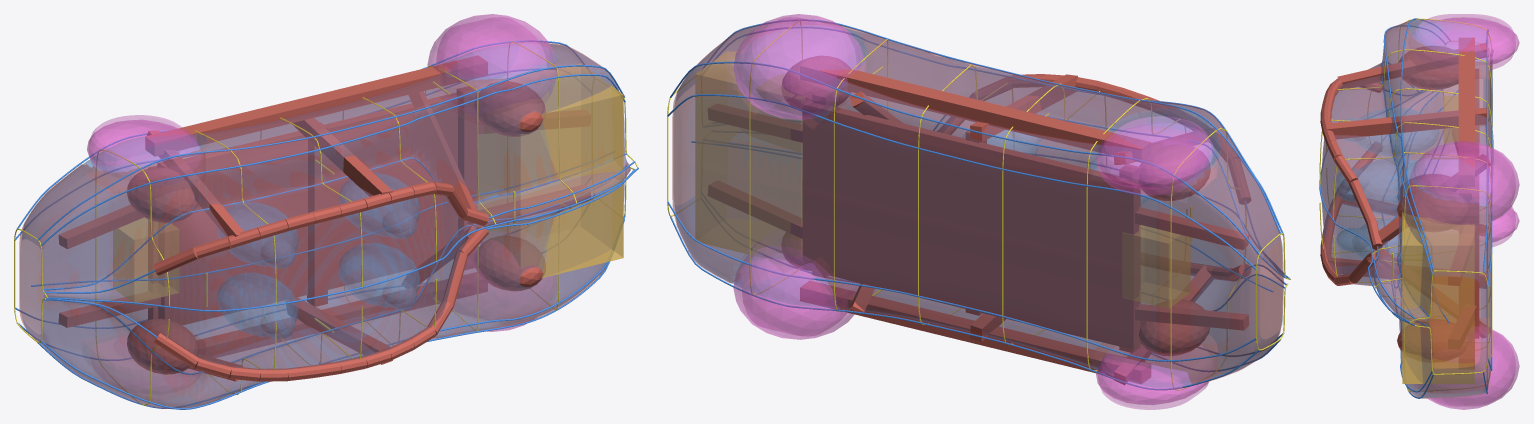
The model's file is modern_car_v2_aero_engineering.glb.
3 renders of one model, left to right at view 1: azimuth 30°, elevation 25°; view 2: azimuth 150°, elevation 25°; view 3: azimuth 270°, elevation 25°, orthographic. The views are drawn at different scales.
Parts seen in each view (by area): view 1: semantic_surface, body_reference, floor_pan, engine_envelope, rocker_right, wheel_envelope_front_right, roof_rail_left, rocker_left, actual_tyre_sweep_front_right, roof_rail_right, rear_differential_envelope, actual_tyre_sweep_rear_right (+41 smaller); view 2: semantic_surface, body_reference, floor_pan, engine_envelope, wheel_envelope_front_right, actual_tyre_sweep_front_right, wheel_envelope_front_left, rocker_right, actual_tyre_sweep_rear_right, rocker_left, wheel_envelope_rear_right, actual_tyre_sweep_front_left (+30 smaller); view 3: semantic_surface, body_reference, engine_envelope, wheel_envelope_front_right, actual_tyre_sweep_front_right, actual_tyre_sweep_rear_right, wheel_envelope_rear_right, wheel_envelope_front_left, rocker_right, b_pillar_right, roof_rail_right, front_tower_right (+38 smaller).
Boxes of the visible parts, box(x1,y1,x2,y2) form: semantic_surface: box(20, 44, 630, 408); body_reference: box(19, 43, 630, 409); floor_pan: box(148, 93, 457, 325); engine_envelope: box(478, 63, 623, 277); rocker_right: box(145, 55, 487, 156); wheel_envelope_front_right: box(427, 14, 555, 99); roof_rail_left: box(154, 225, 488, 381); rocker_left: box(197, 272, 487, 357); actual_tyre_sweep_front_right: box(436, 17, 546, 78); roof_rail_right: box(153, 181, 488, 275); rear_differential_envelope: box(113, 217, 178, 302); actual_tyre_sweep_rear_right: box(89, 115, 199, 171); semantic_surface: box(673, 26, 1283, 387); body_reference: box(672, 23, 1283, 383); floor_pan: box(802, 100, 1138, 349); engine_envelope: box(695, 51, 804, 266); wheel_envelope_front_right: box(733, 14, 864, 119); actual_tyre_sweep_front_right: box(742, 17, 855, 116); wheel_envelope_front_left: box(733, 246, 859, 339); rocker_right: box(800, 59, 1150, 162); actual_tyre_sweep_rear_right: box(1098, 116, 1211, 194); rocker_left: box(800, 281, 1150, 383); wheel_envelope_rear_right: box(1096, 122, 1214, 189); actual_tyre_sweep_front_left: box(742, 256, 846, 336); semantic_surface: box(1321, 19, 1492, 397); body_reference: box(1321, 19, 1492, 398); engine_envelope: box(1402, 212, 1474, 383); wheel_envelope_front_right: box(1409, 141, 1519, 223); actual_tyre_sweep_front_right: box(1413, 144, 1515, 220); actual_tyre_sweep_rear_right: box(1414, 14, 1515, 69); wheel_envelope_rear_right: box(1411, 17, 1519, 65); wheel_envelope_front_left: box(1427, 325, 1519, 409); rocker_right: box(1458, 37, 1474, 186); b_pillar_right: box(1327, 107, 1486, 139); roof_rail_right: box(1320, 79, 1382, 249); front_tower_right: box(1397, 188, 1468, 231).
Bounding box in the file's own units: 4.36 × 2.18 × 1.55.
